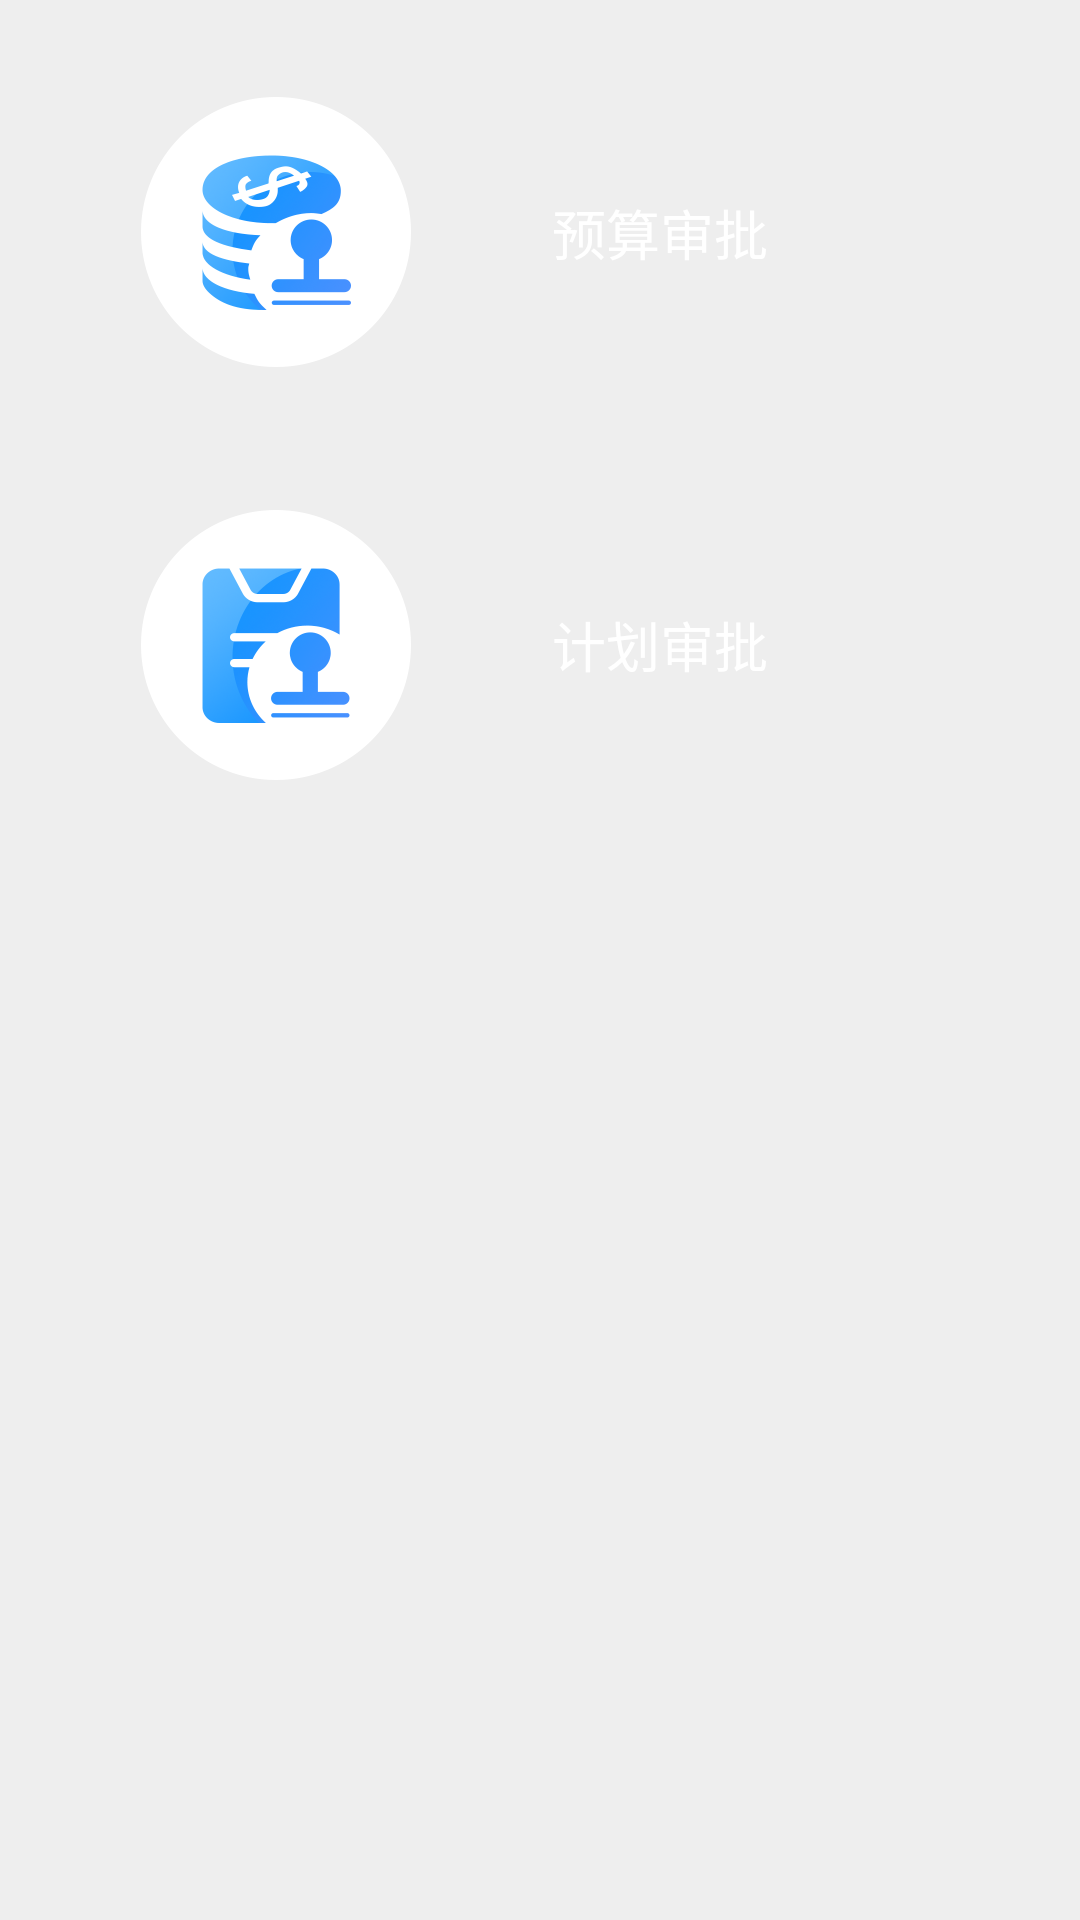

Named icons in this screenshot (1080w x 1920h) and their centers, [x,y]:
budget approval: [276,232]
plan approval: [276,645]
